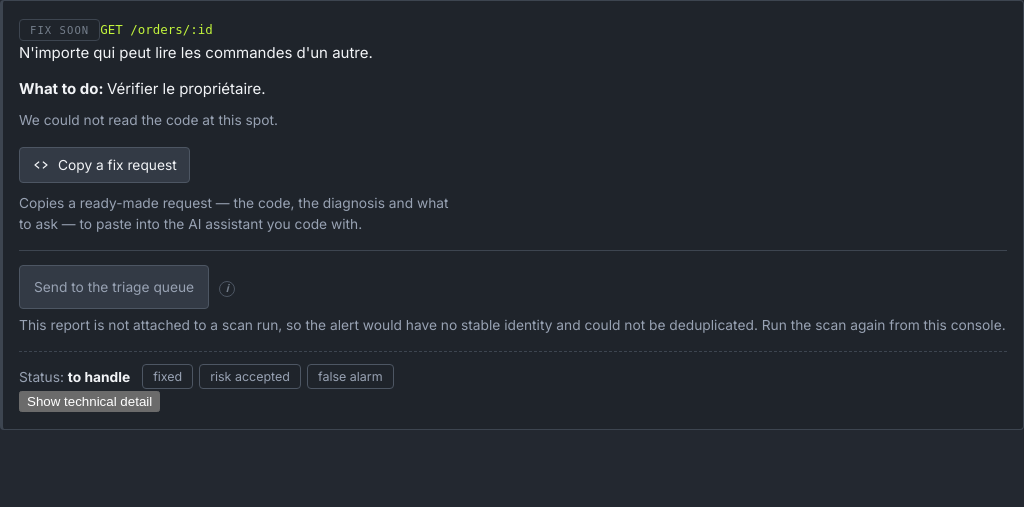
Scenario: Statut à l écran › permet de marquer corrigé en un clic
Click the button "fixed": (168, 377) [142, 364, 193, 389]
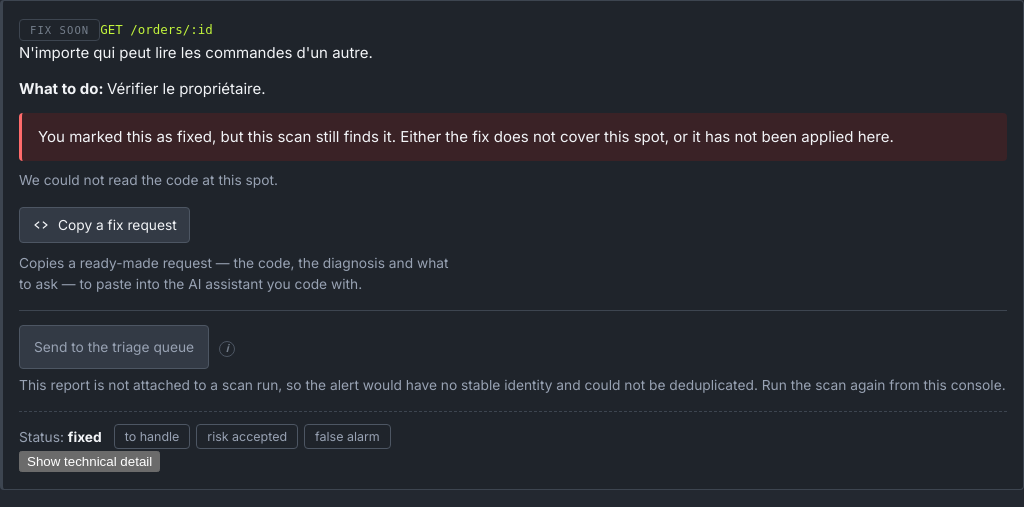
Expected: the text "fixed" is shown, [68, 429, 102, 445]
